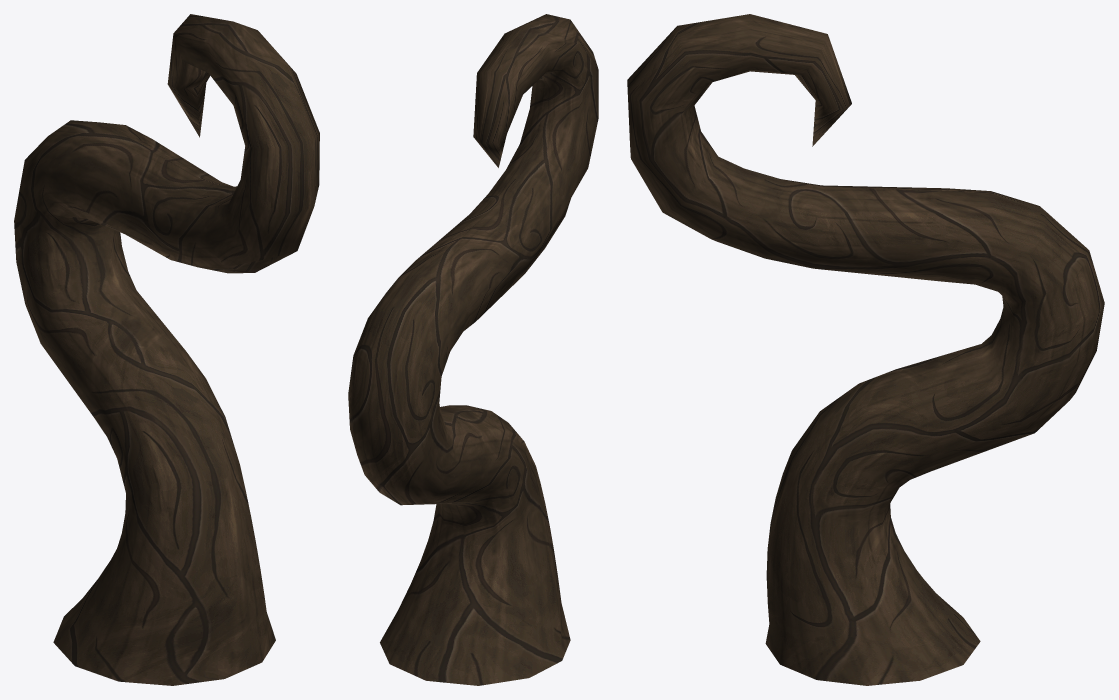
File: rootGreen7.fbx
3 renders of one model, left to right at view 1: azimuth 30°, elevation 25°; view 2: azimuth 150°, elevation 25°; view 3: azimuth 270°, elevation 25°, orthographic. The views are drawn at different scales.
Parts seen in each view (by area): view 1: rootGreen7; view 2: rootGreen7; view 3: rootGreen7.
Boxes of the visible parts, left/top/right/bottom form: rootGreen7: left=14, top=14, right=319, bottom=685; rootGreen7: left=348, top=14, right=598, bottom=685; rootGreen7: left=627, top=14, right=1104, bottom=685.
Bounding box in the file's own units: 324 × 1080 × 742.
